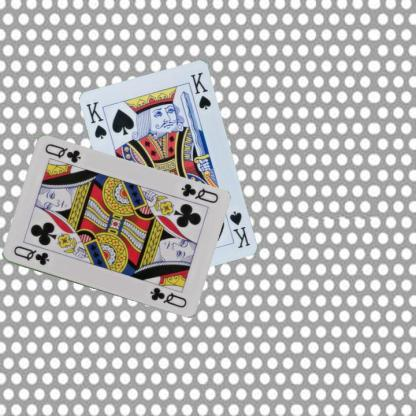Ks: (227, 208, 252, 250), (84, 99, 108, 141)
Qc: (178, 181, 220, 205), (10, 243, 51, 267)
